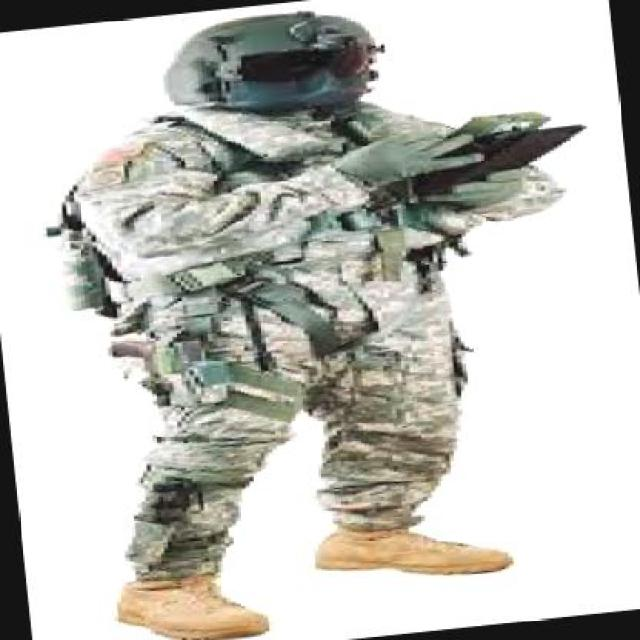MIL_Pax: (34, 0, 511, 638)
